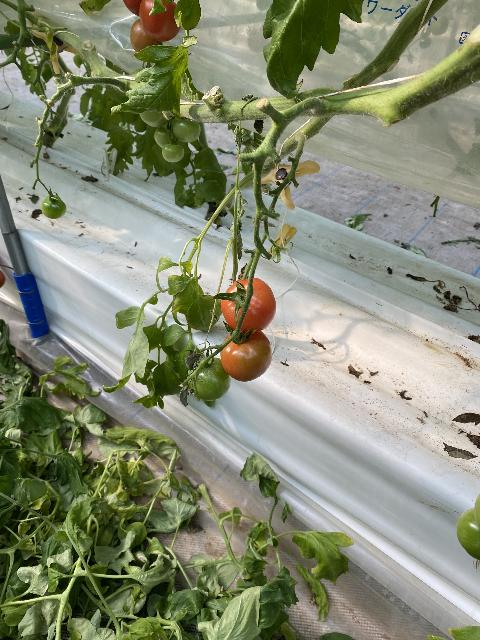l_fully_ripened: (221, 278, 277, 332), (139, 0, 182, 43)
l_green: (187, 357, 231, 401), (456, 507, 480, 561), (172, 117, 201, 143), (41, 194, 66, 219), (154, 128, 178, 148), (140, 112, 169, 128), (161, 143, 184, 162)
l_half_ripened: (220, 329, 272, 382), (130, 19, 164, 56)
